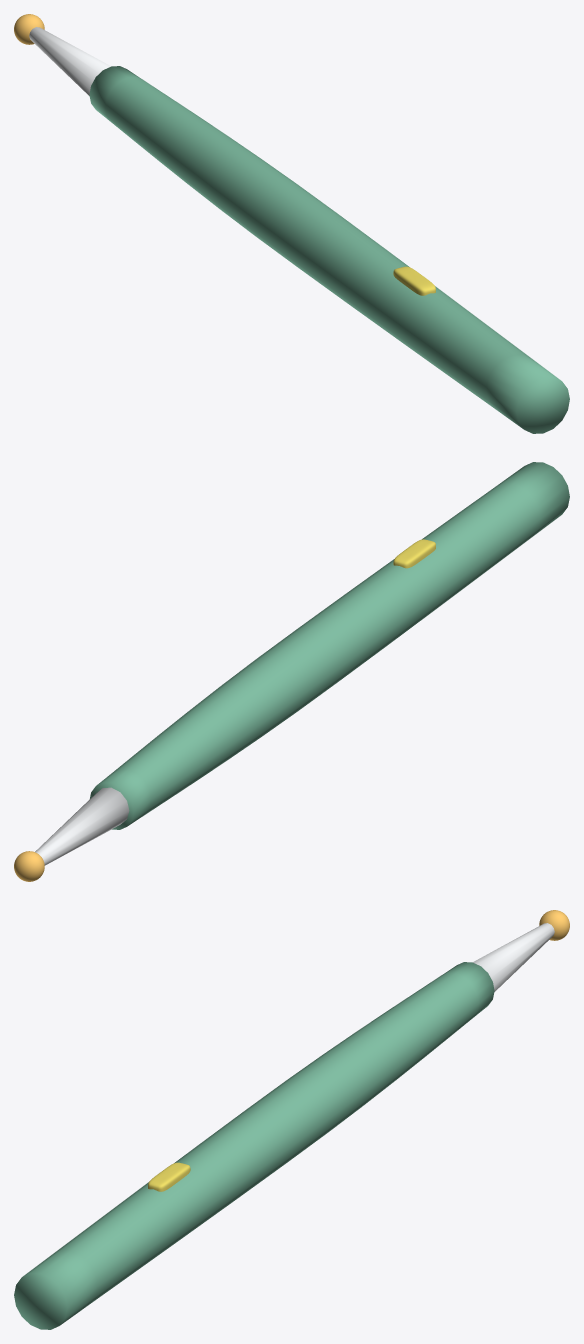
The model's file is cautery.glb.
3 renders of one model, top to bottom at view 1: azimuth 30°, elevation 25°; view 2: azimuth 150°, elevation 25°; view 3: azimuth 330°, elevation 25°, orthographic.
Parts seen in each view (by area): view 1: Body, Tip, Button, Glow; view 2: Body, Tip, Glow, Button; view 3: Body, Tip, Button, Glow.
Boxes of the visible parts, left/top/right/bottom form: Body: left=89, top=66, right=569, bottom=433; Tip: left=29, top=27, right=110, bottom=95; Button: left=393, top=266, right=435, bottom=295; Glow: left=14, top=14, right=44, bottom=44; Body: left=90, top=462, right=569, bottom=829; Tip: left=35, top=787, right=129, bottom=865; Glow: left=14, top=851, right=44, bottom=881; Button: left=393, top=539, right=435, bottom=568; Body: left=14, top=962, right=494, bottom=1329; Tip: left=473, top=923, right=554, bottom=991; Button: left=148, top=1162, right=190, bottom=1191; Glow: left=539, top=910, right=569, bottom=940.
Bounding box in the file's own units: 0.0131 × 0.014 × 0.203.
